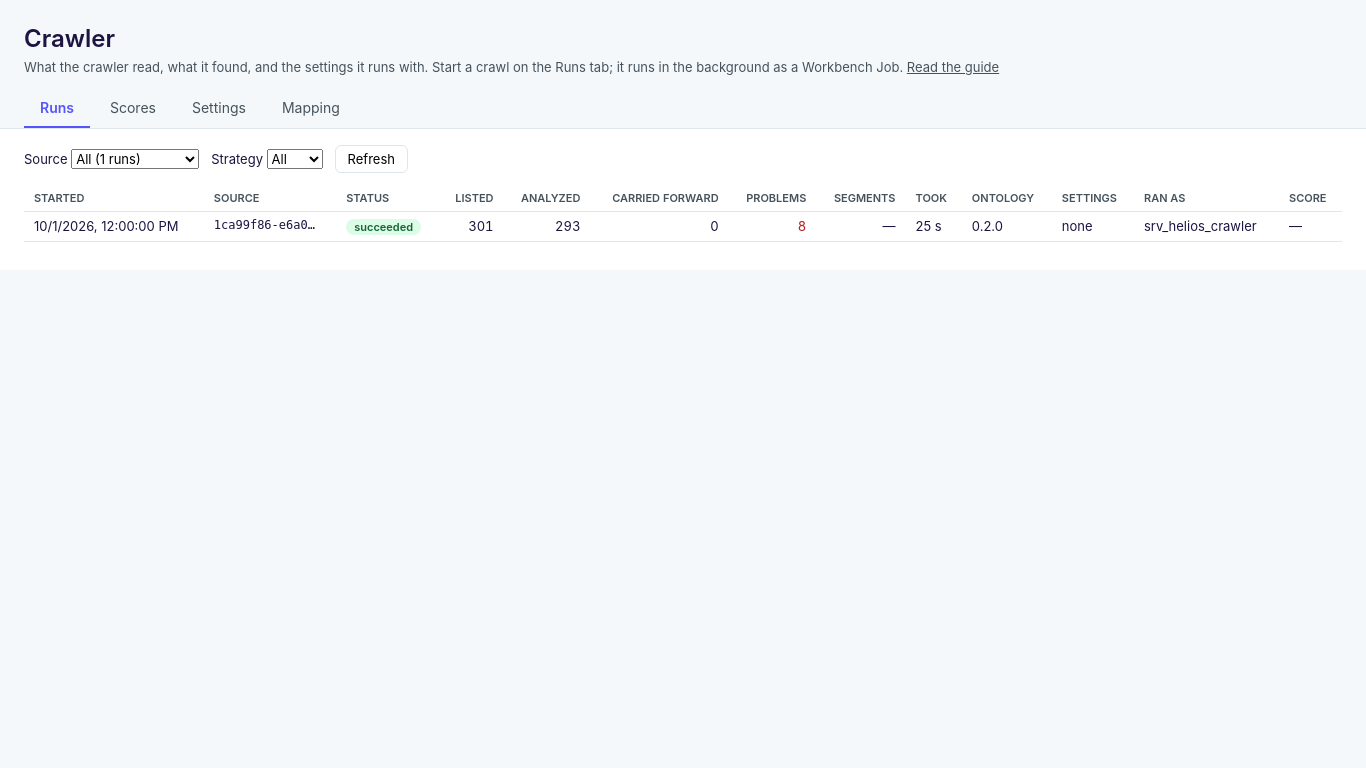
Test case: CrawlerPage › lists runs and shows a run's assets with their problems
expect the text "8" is shown: met, box [729,212,816,242]
Click the text "1ca99f86-e6a0…" at (270, 226), box [204,212,336,242]
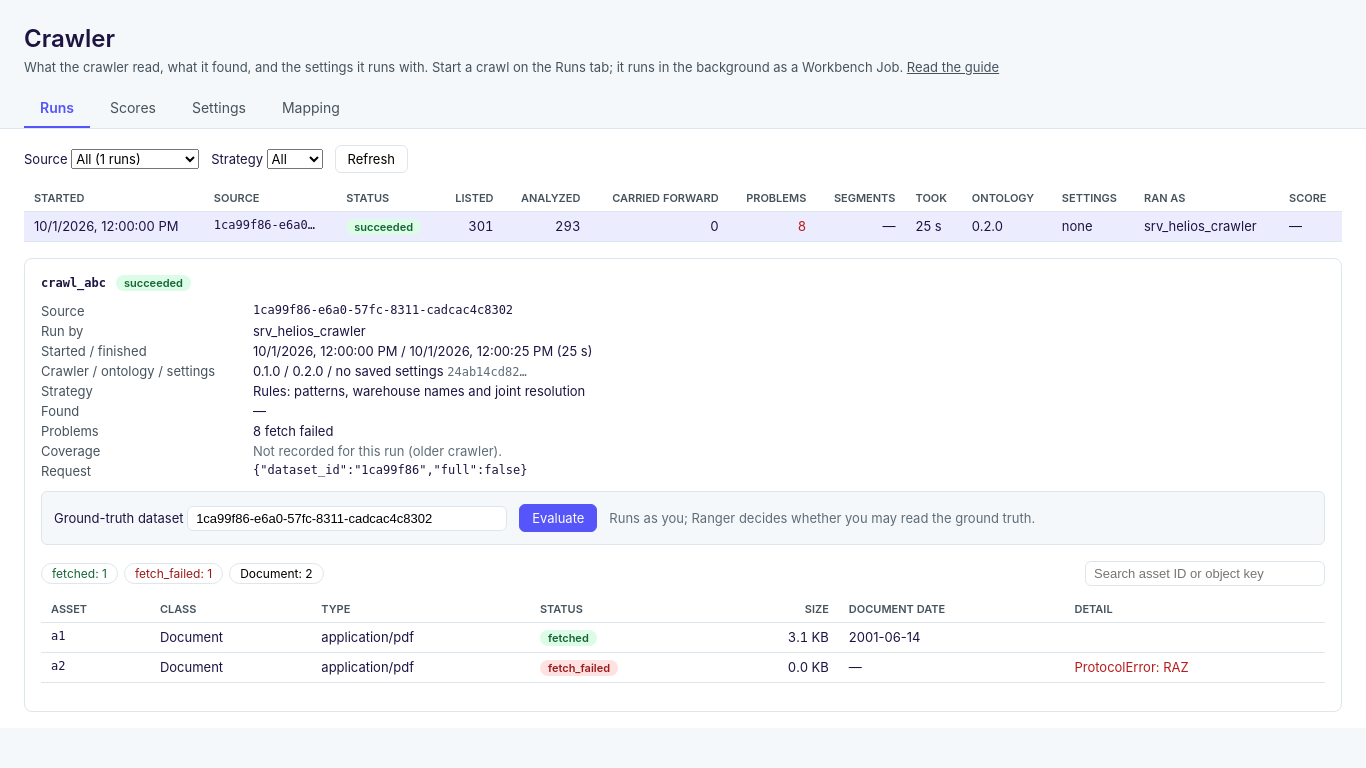
expect the text "ProtocolError: RAZ" is shown: met, box [1064,652,1325,682]
Click the button "fetch_failed: 1" at (174, 574), box [124,563,223,584]
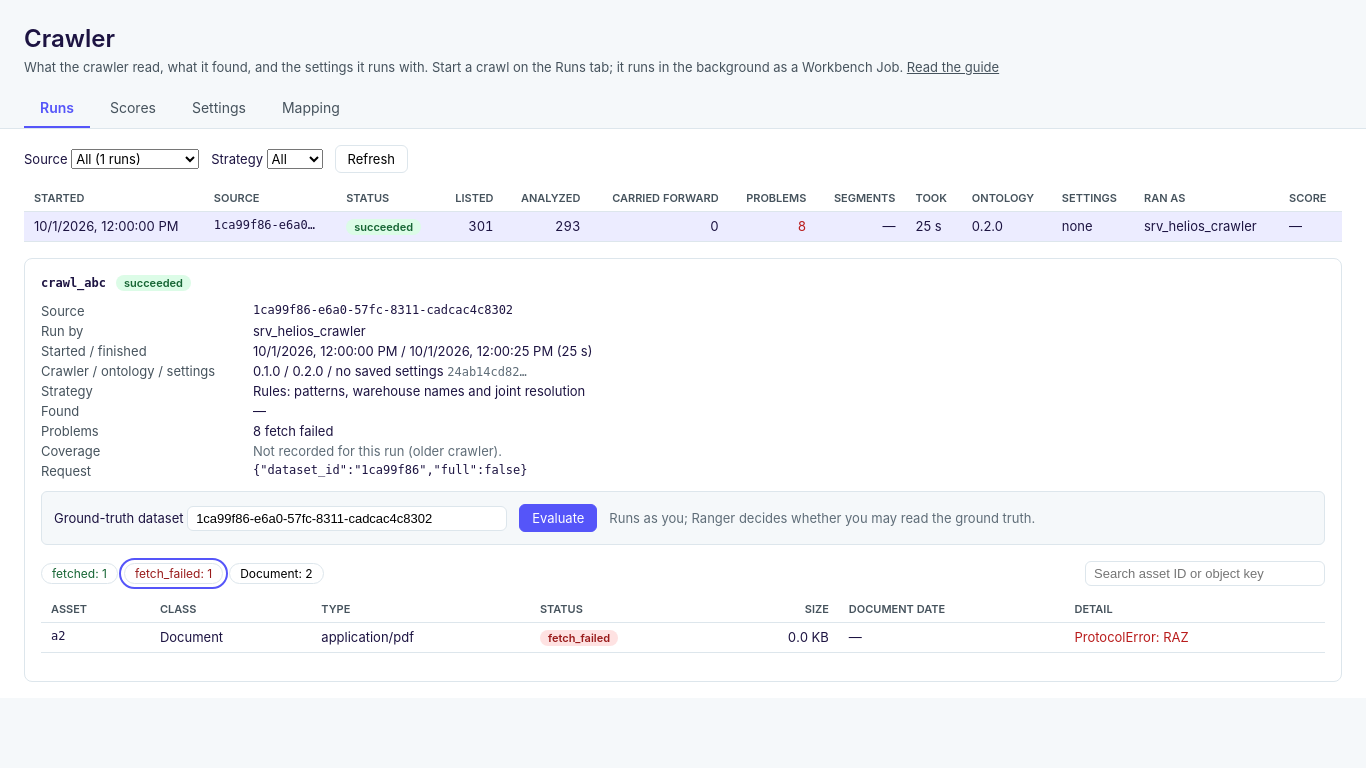
expect the text "a1" is gone: met
